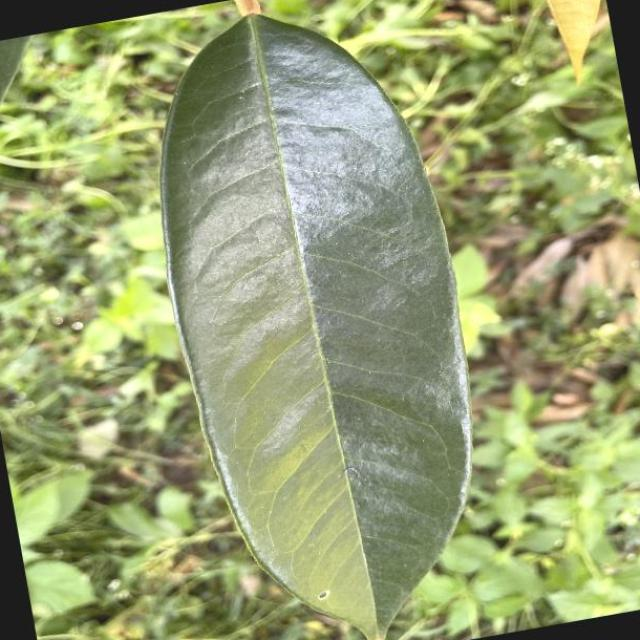No Disease: (112, 0, 526, 640)
